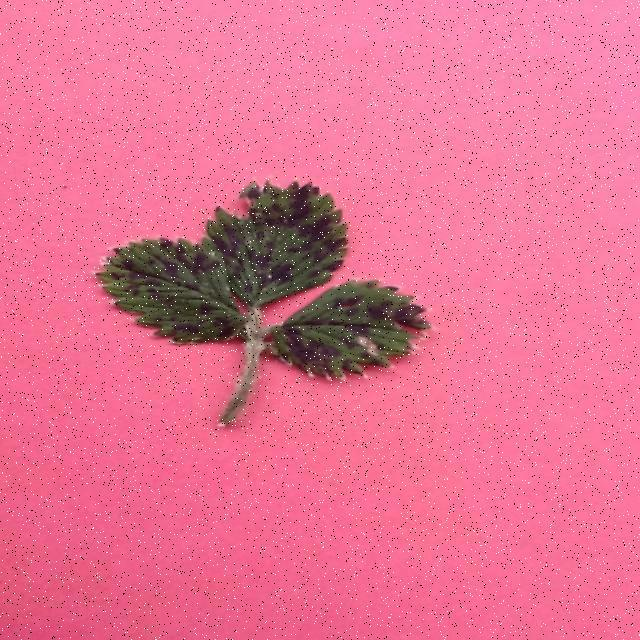foliage: (88, 176, 436, 436)
